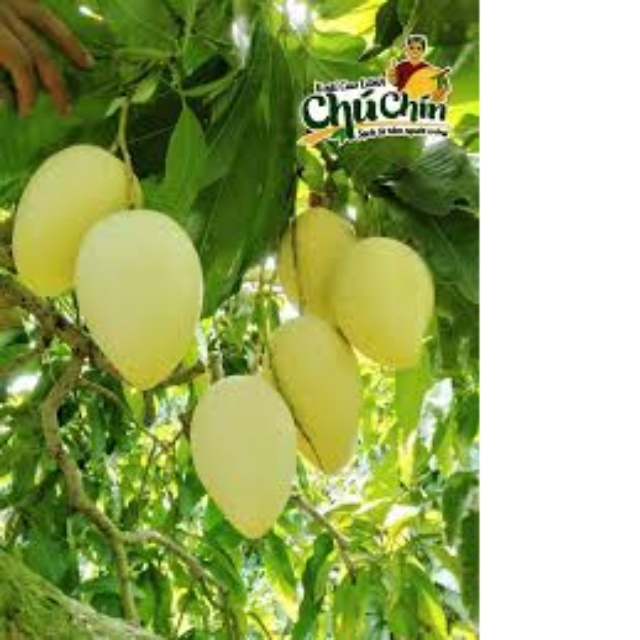thanh_long: (82, 201, 207, 388), (190, 375, 299, 538)
